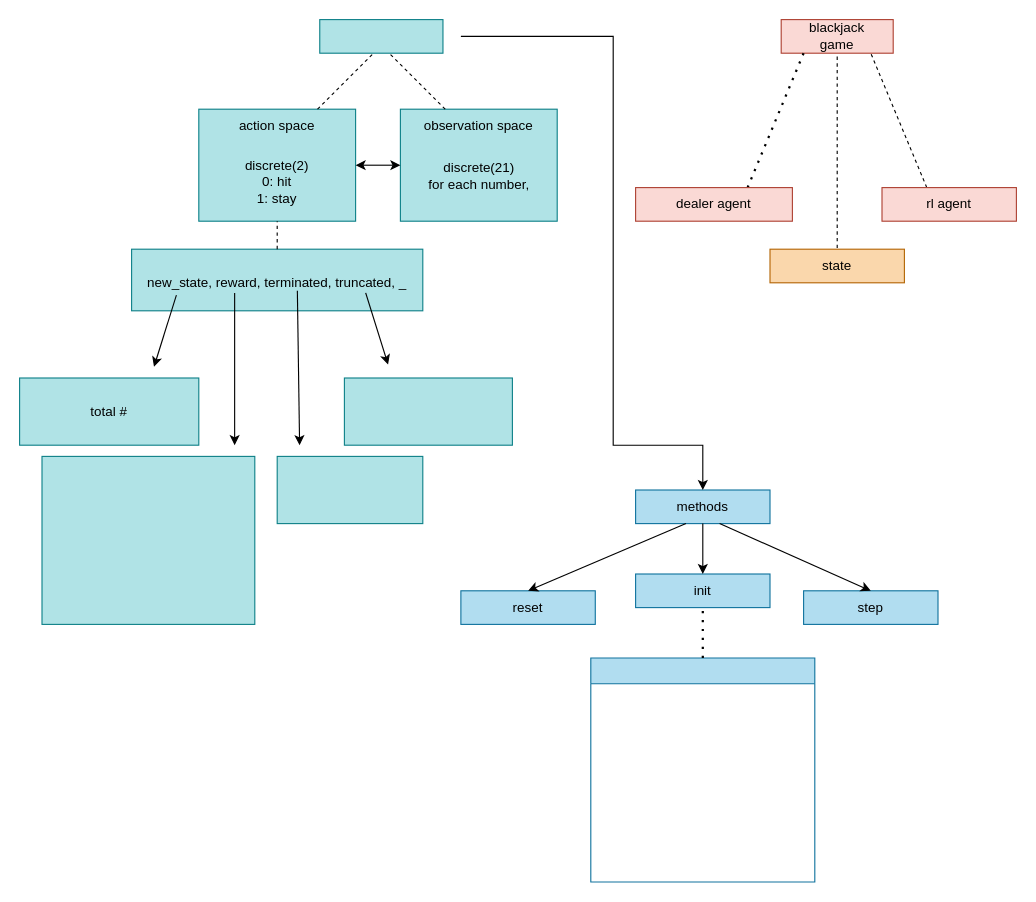
This 1036x902 diagram has some shape labels left out. The box of each missing label's shape, as (x1, y1, x2, y2) in pixels:
Agent chooses "stay": (343, 377, 512, 445)
beat dealer? bust: -100; beat dealer: 100; lose to dealer: 100;: (41, 455, 255, 624)
Bust: (276, 455, 423, 524)
gym environment: (319, 18, 443, 53)
vars: (590, 657, 815, 882)
